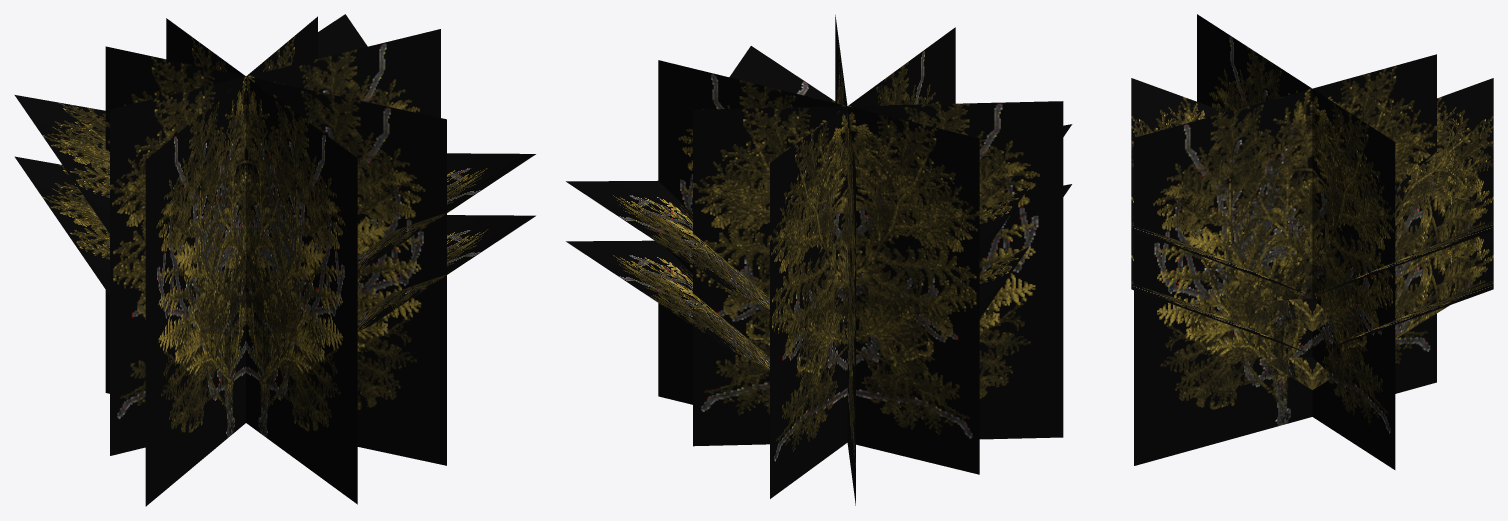
The model's file is generic_plant_a.dae.
The picture shows the model from 3 angles, left to right: view 1: azimuth 30°, elevation 25°; view 2: azimuth 150°, elevation 25°; view 3: azimuth 270°, elevation 25°; orthographic projection. The views are drawn at different scales.
Visible parts, largest first — view 1: Planta; view 2: Planta; view 3: Planta.
Part boxes in pixels (x1=…): Planta: x1=14, y1=14, x2=535, y2=506; Planta: x1=566, y1=15, x2=1072, y2=505; Planta: x1=1131, y1=14, x2=1493, y2=469.
Bounding box in the file's own units: 2.22 × 2.24 × 2.07.
